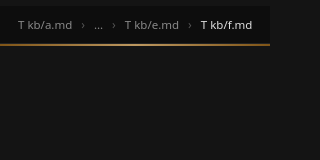
Scenario: closes the overflow dropdown on Escape
This screenshot has width=320, height=160.
Check: the button "T kb/a.md" is shown, box x1=14 y1=16 x2=76 y2=33
Click the button with test id "crumb-overflow" at x=99, y=25, box x1=90 y1=18 x2=107 y2=31
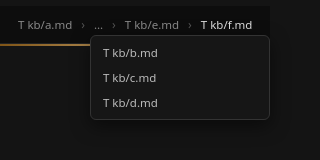
Check: the menu with test id "crumb-overflow-menu" is shown, box x1=90 y1=35 x2=270 y2=120
Press Escape
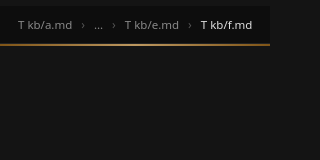
Check: the menu with test id "crumb-overflow-menu" is gone
